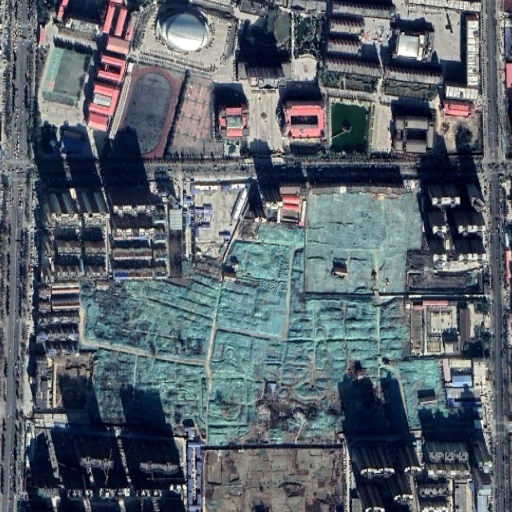cw: (79, 188, 448, 445)
